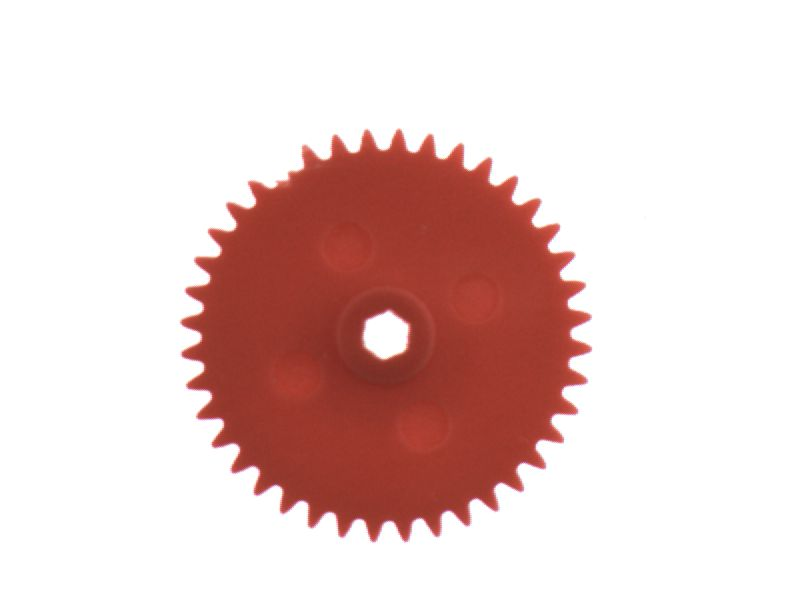defect_lack: (254, 144, 311, 201)
